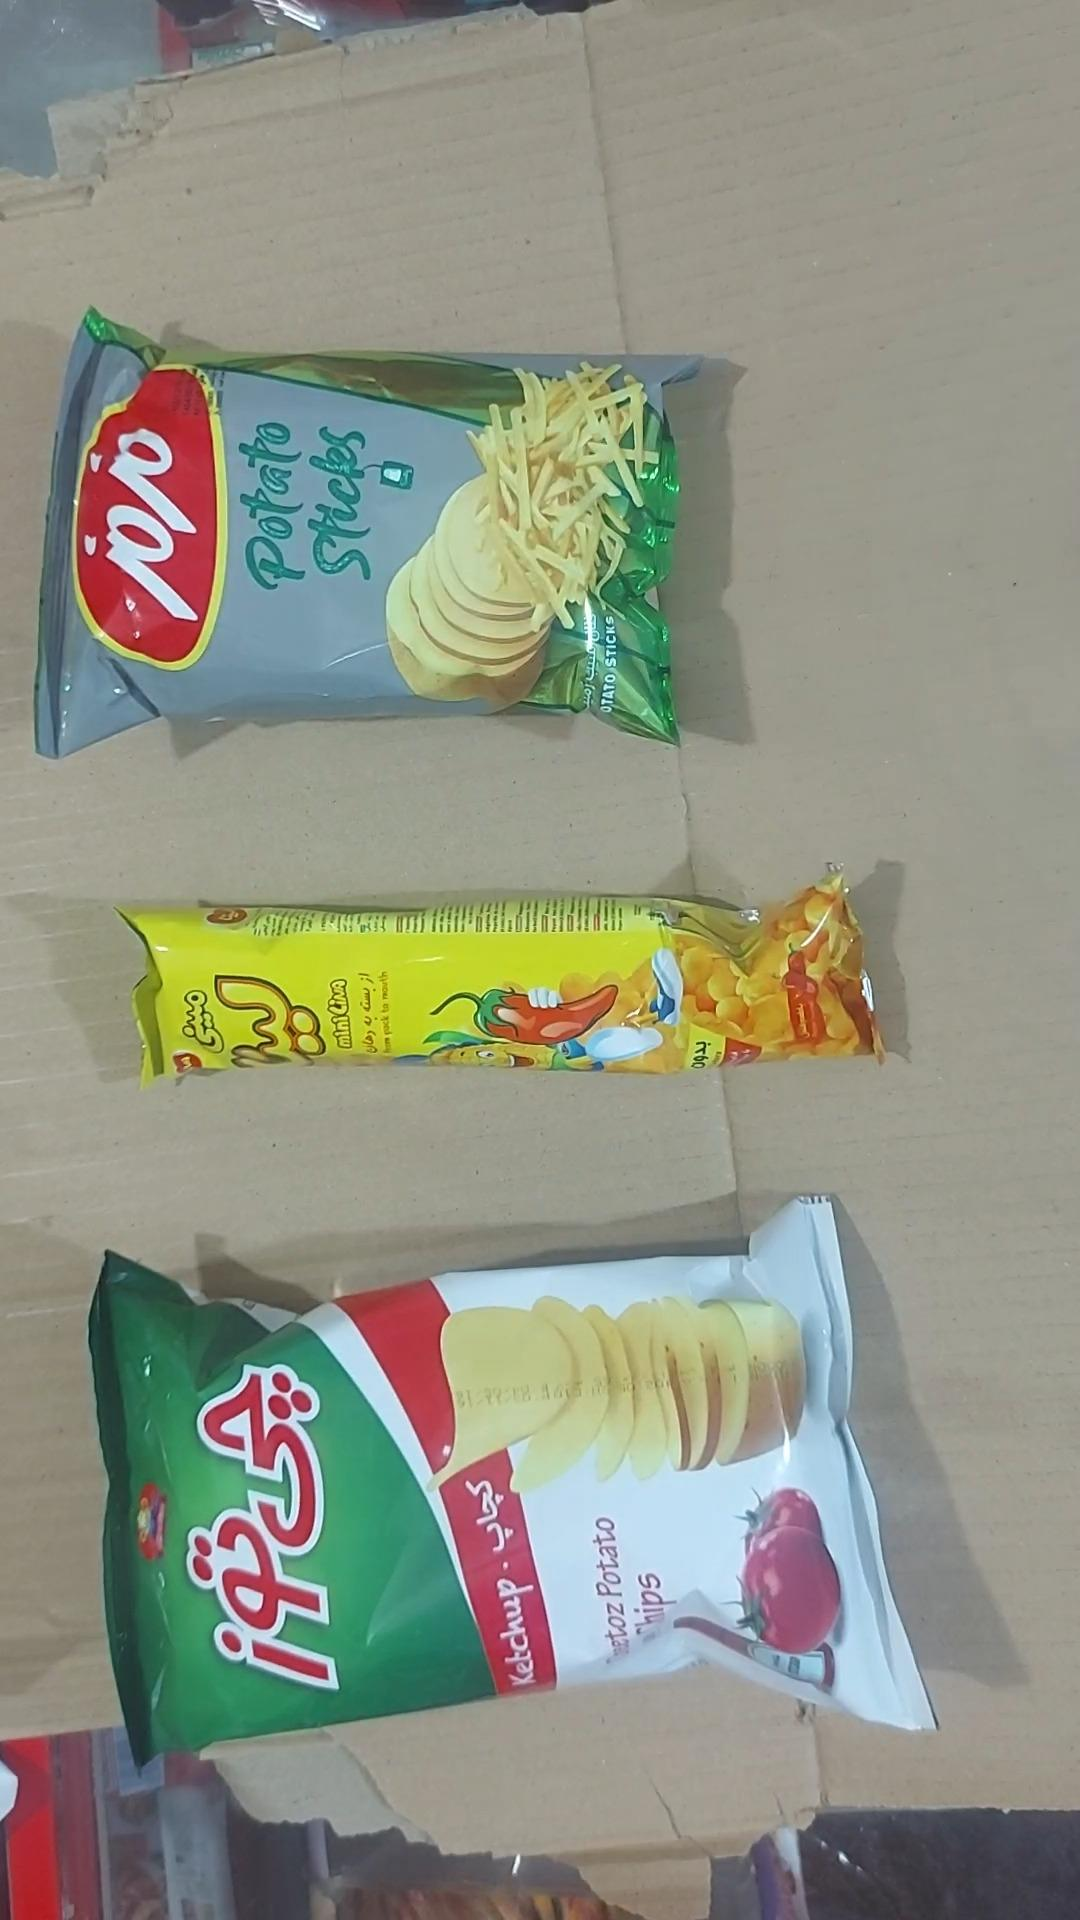Cheetoz ketchup chips: (90, 1199, 935, 1759)
Maz Maz potato sticks: (36, 310, 703, 758)
Mini Lina: (121, 876, 884, 1083)
